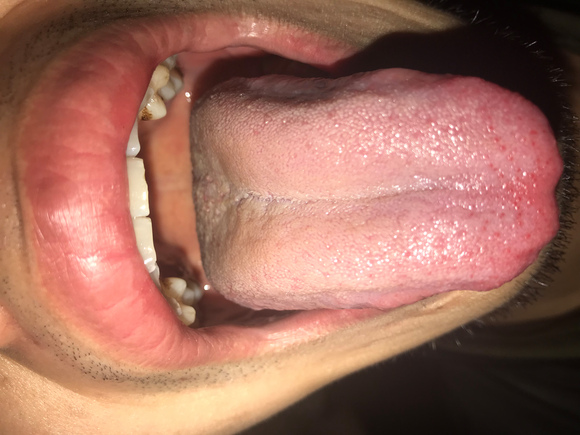hongdianshe: (522, 230, 533, 241), (491, 134, 500, 145), (529, 138, 537, 147)
hongshe: (190, 68, 564, 312)
huangtaishe: (190, 68, 564, 312)
